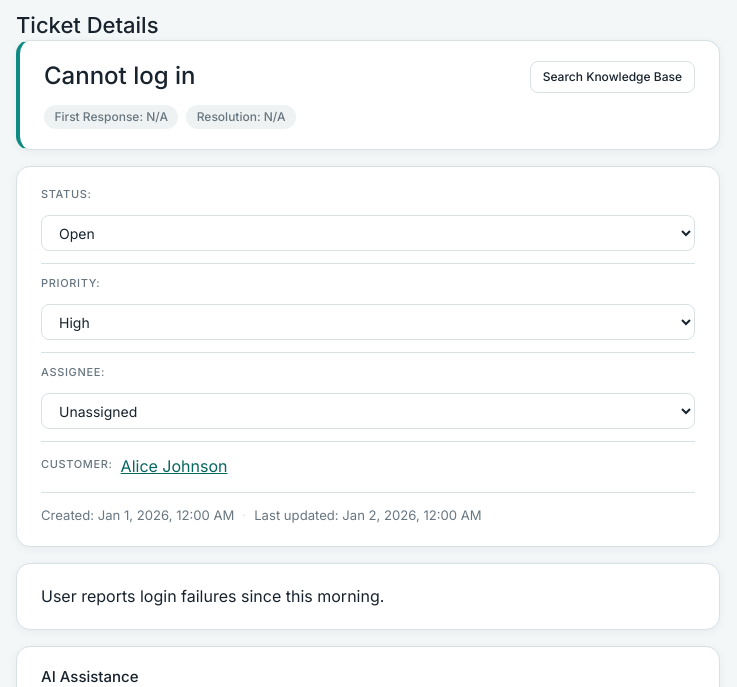
Test: TicketDetailsView › leaves the status unchanged and shows an error when changeStatus fails
Select "Closed" in the dropdown below "Status:" at (368, 233), box [41,215,695,251]
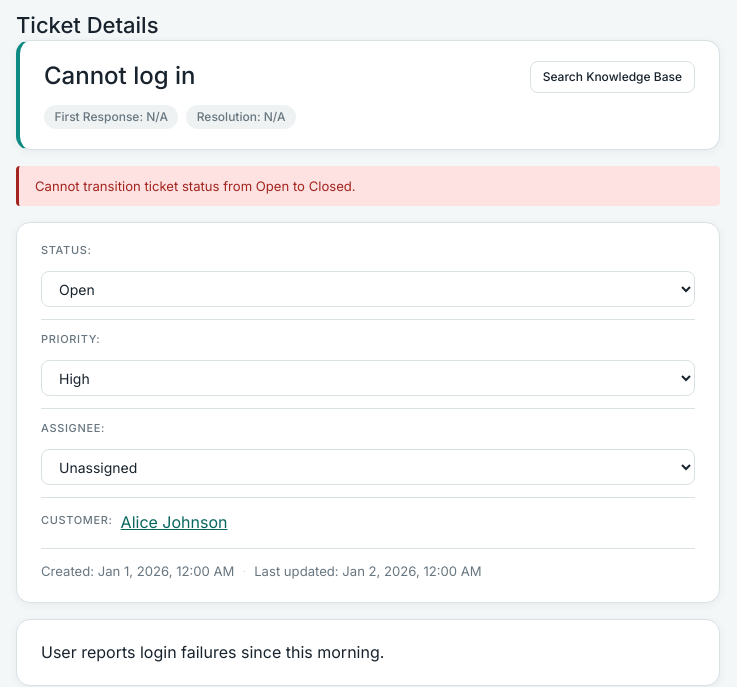
Now the text "Cannot transition ticket status from Open to Closed." is shown, box [35,178,356,194]
